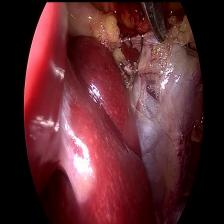Grasper: (180, 34, 196, 58)
Scissors: (141, 0, 170, 45)
